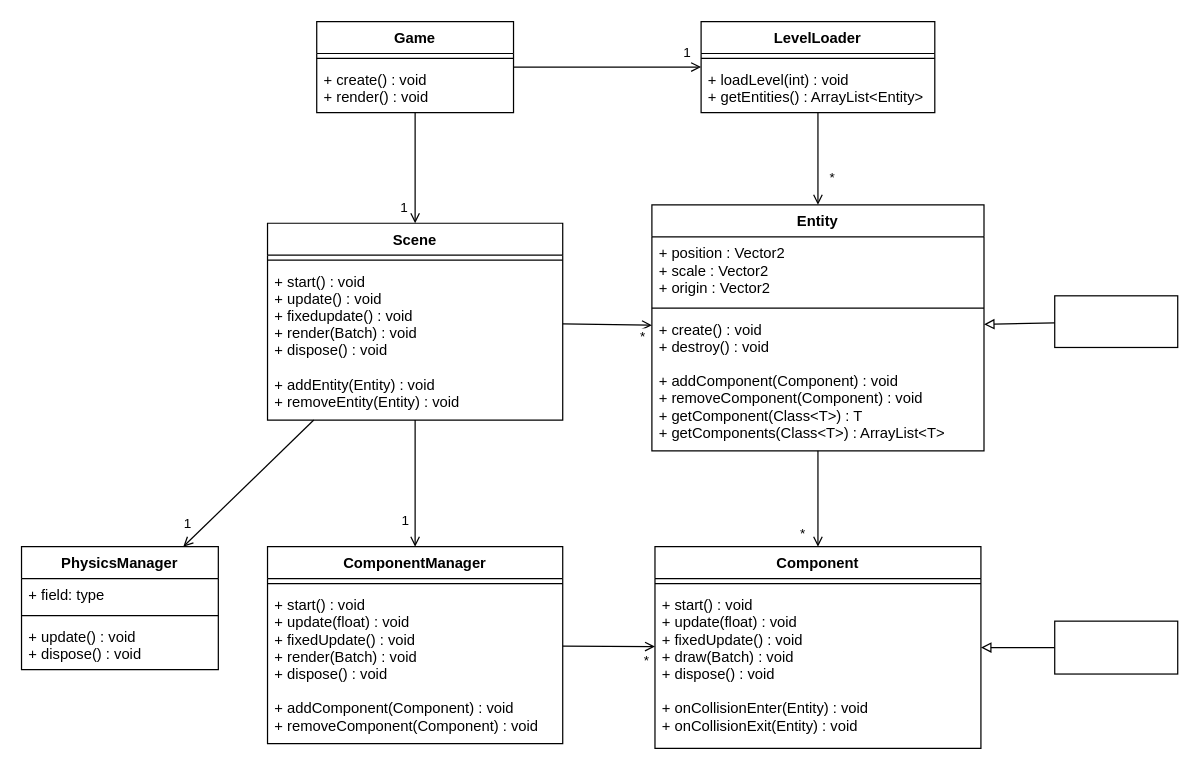
Some shapes in this 1199 by 774 pixel diagram are drawn without their labels. The shapes that lost their labels are listed below. From the top down, each one's centre as x and y in pixels, then its label:
At pixel 1115 321: "Entities".
At pixel 1115 647: "Components".
